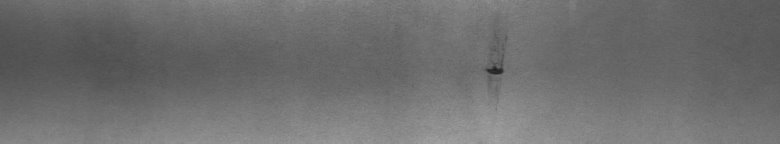fi: (483, 36, 511, 88)
